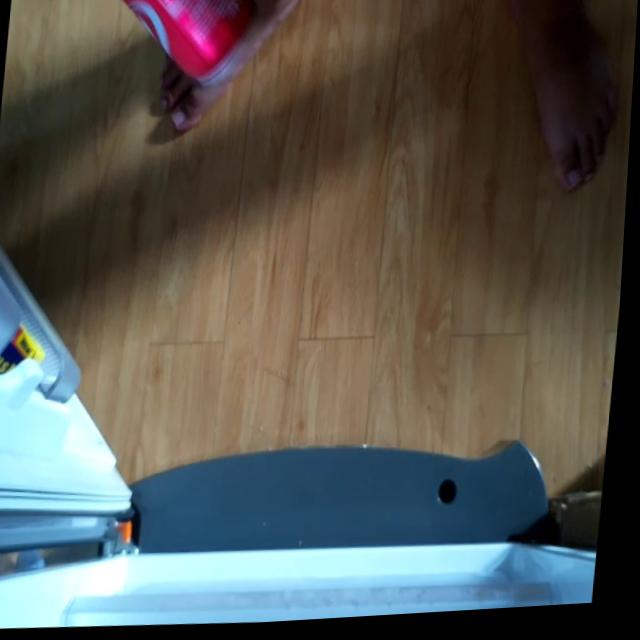coke: (92, 0, 257, 91)
